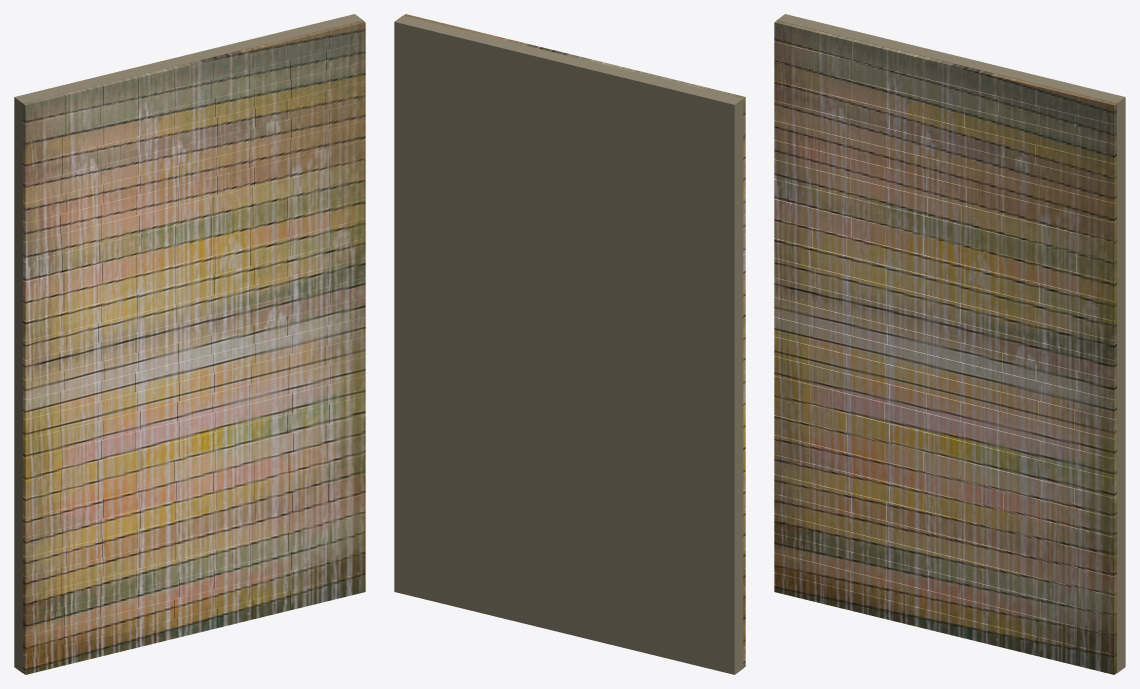
The model's file is O34_art.glb.
3 renders of one model, left to right at view 1: azimuth 30°, elevation 25°; view 2: azimuth 150°, elevation 25°; view 3: azimuth 330°, elevation 25°, orthographic.
Parts seen in each view (by area): view 1: reference sampled pastel ceramic glaze, warm backing and tile joints; view 2: warm backing and tile joints, reference sampled pastel ceramic glaze; view 3: reference sampled pastel ceramic glaze, warm backing and tile joints.
Part boxes in pixels (x1,y1,x2,y2): reference sampled pastel ceramic glaze: (23, 20, 365, 674); warm backing and tile joints: (14, 14, 363, 672); warm backing and tile joints: (394, 15, 743, 674); reference sampled pastel ceramic glaze: (404, 14, 745, 667); reference sampled pastel ceramic glaze: (774, 20, 1116, 674); warm backing and tile joints: (776, 14, 1125, 672).
Bounding box in the file's own units: 1.1 × 1.76 × 0.062.
2 materials, 1 textured.
